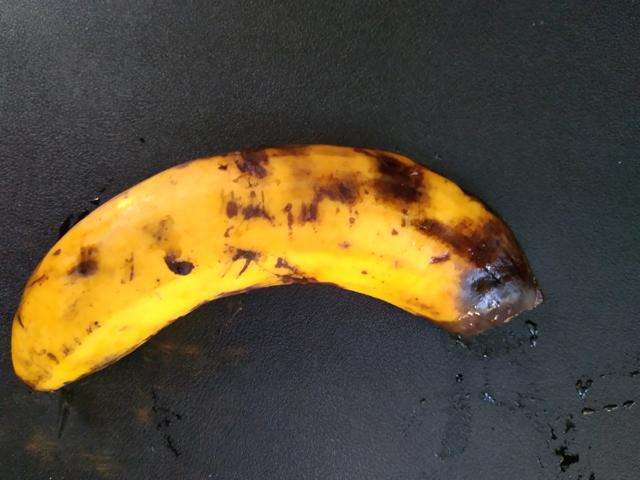ripe: (0, 98, 276, 440)
rotten: (258, 135, 571, 348)
